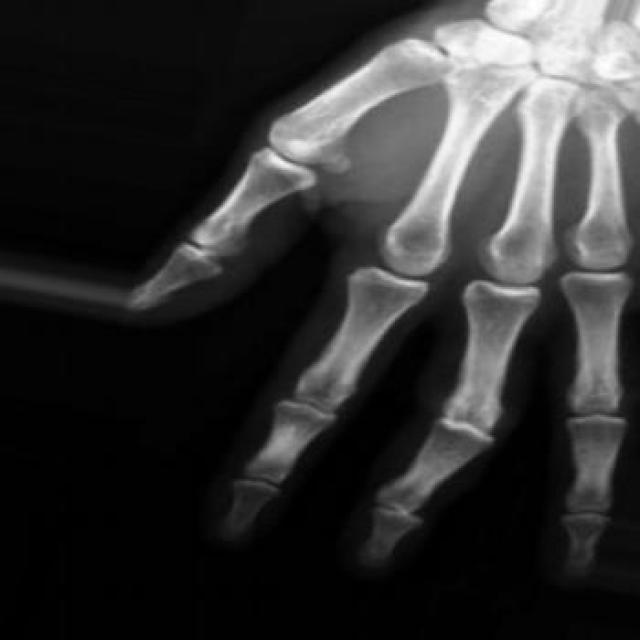Fracture: (360, 483, 430, 528)
